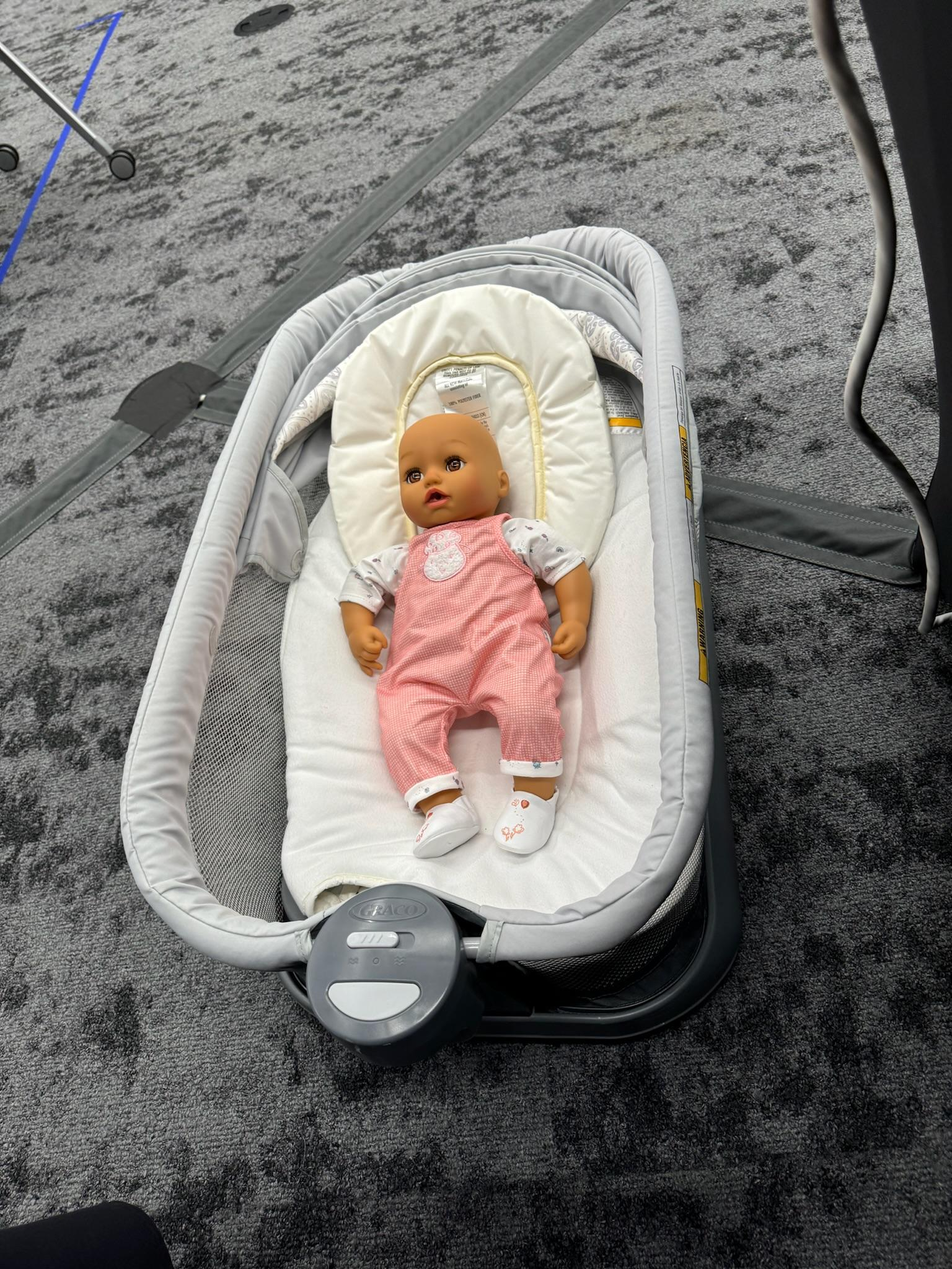baby: (337, 407, 599, 864)
